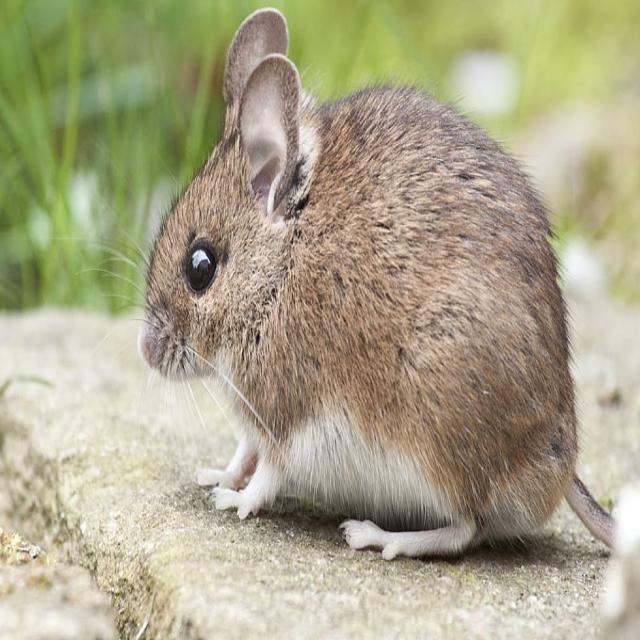rat: (119, 1, 640, 571)
